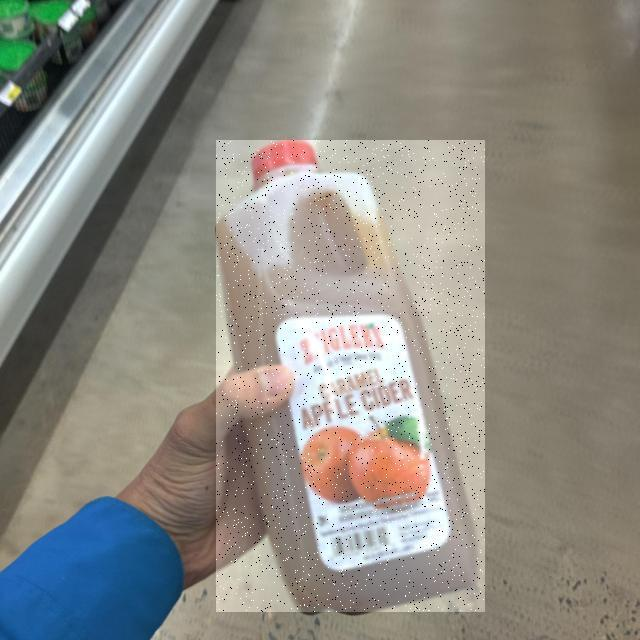Juice: (216, 141, 485, 613)
